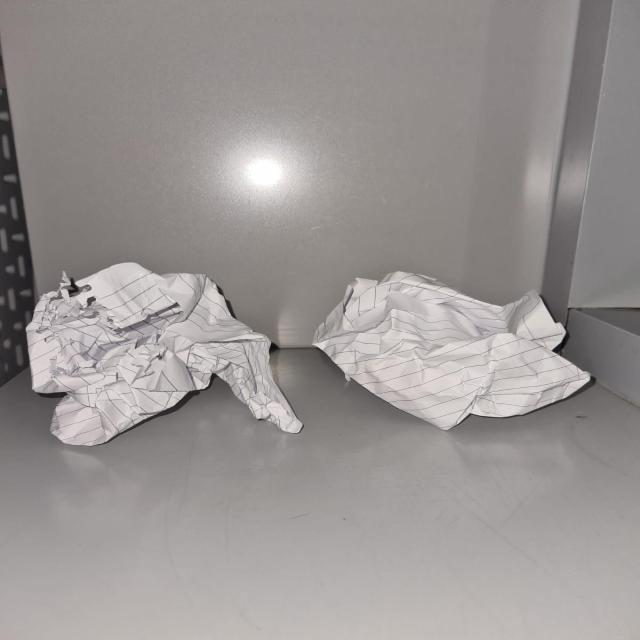trash: (36, 264, 304, 460), (331, 264, 603, 433)
